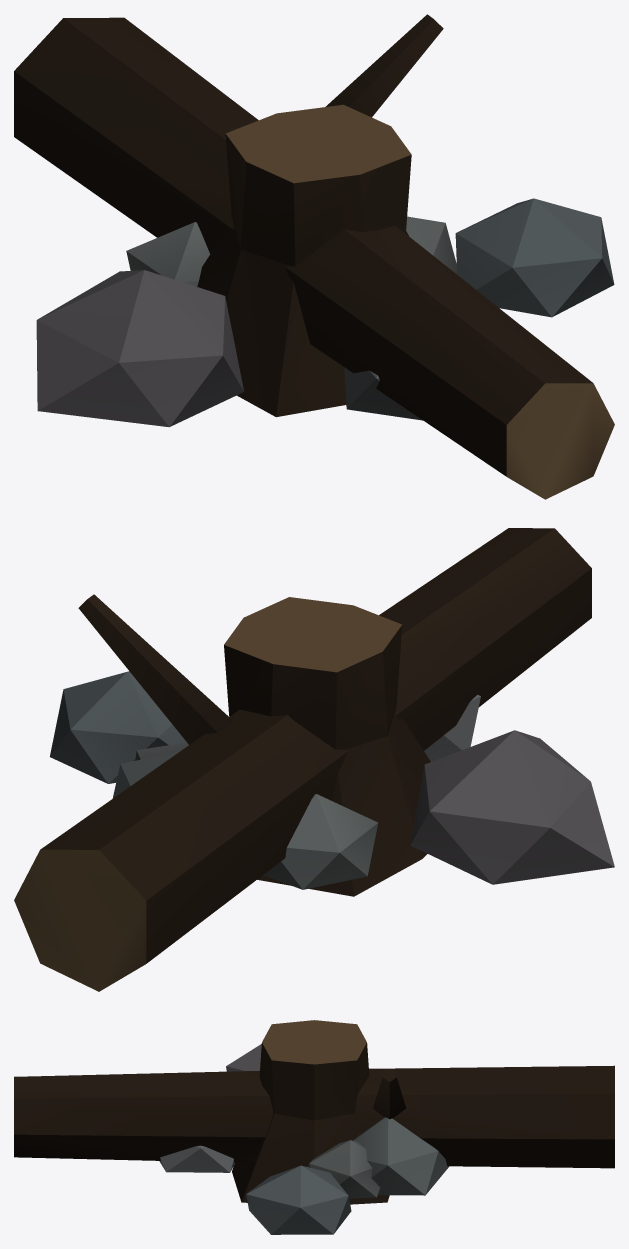
The model's file is debris_frost.glb.
The picture shows the model from 3 angles, top to bottom: view 1: azimuth 30°, elevation 25°; view 2: azimuth 150°, elevation 25°; view 3: azimuth 270°, elevation 25°; orthographic projection. The views are drawn at different scales.
Parts seen in each view (by area): view 1: v1, v0, v2; view 2: v1, v0, v2; view 3: v1, v0, v2.
Boxes of the visible parts, x1,y1,x2,y2 form: v1: (14, 14, 614, 499); v0: (36, 198, 614, 427); v2: (197, 104, 411, 417); v1: (14, 528, 591, 991); v0: (50, 671, 614, 889); v2: (224, 597, 430, 896); v1: (14, 1065, 614, 1168); v0: (159, 1044, 449, 1234); v2: (232, 1020, 389, 1204).
Size of the model in its own units: 0.5494 by 0.2282 by 0.8.
